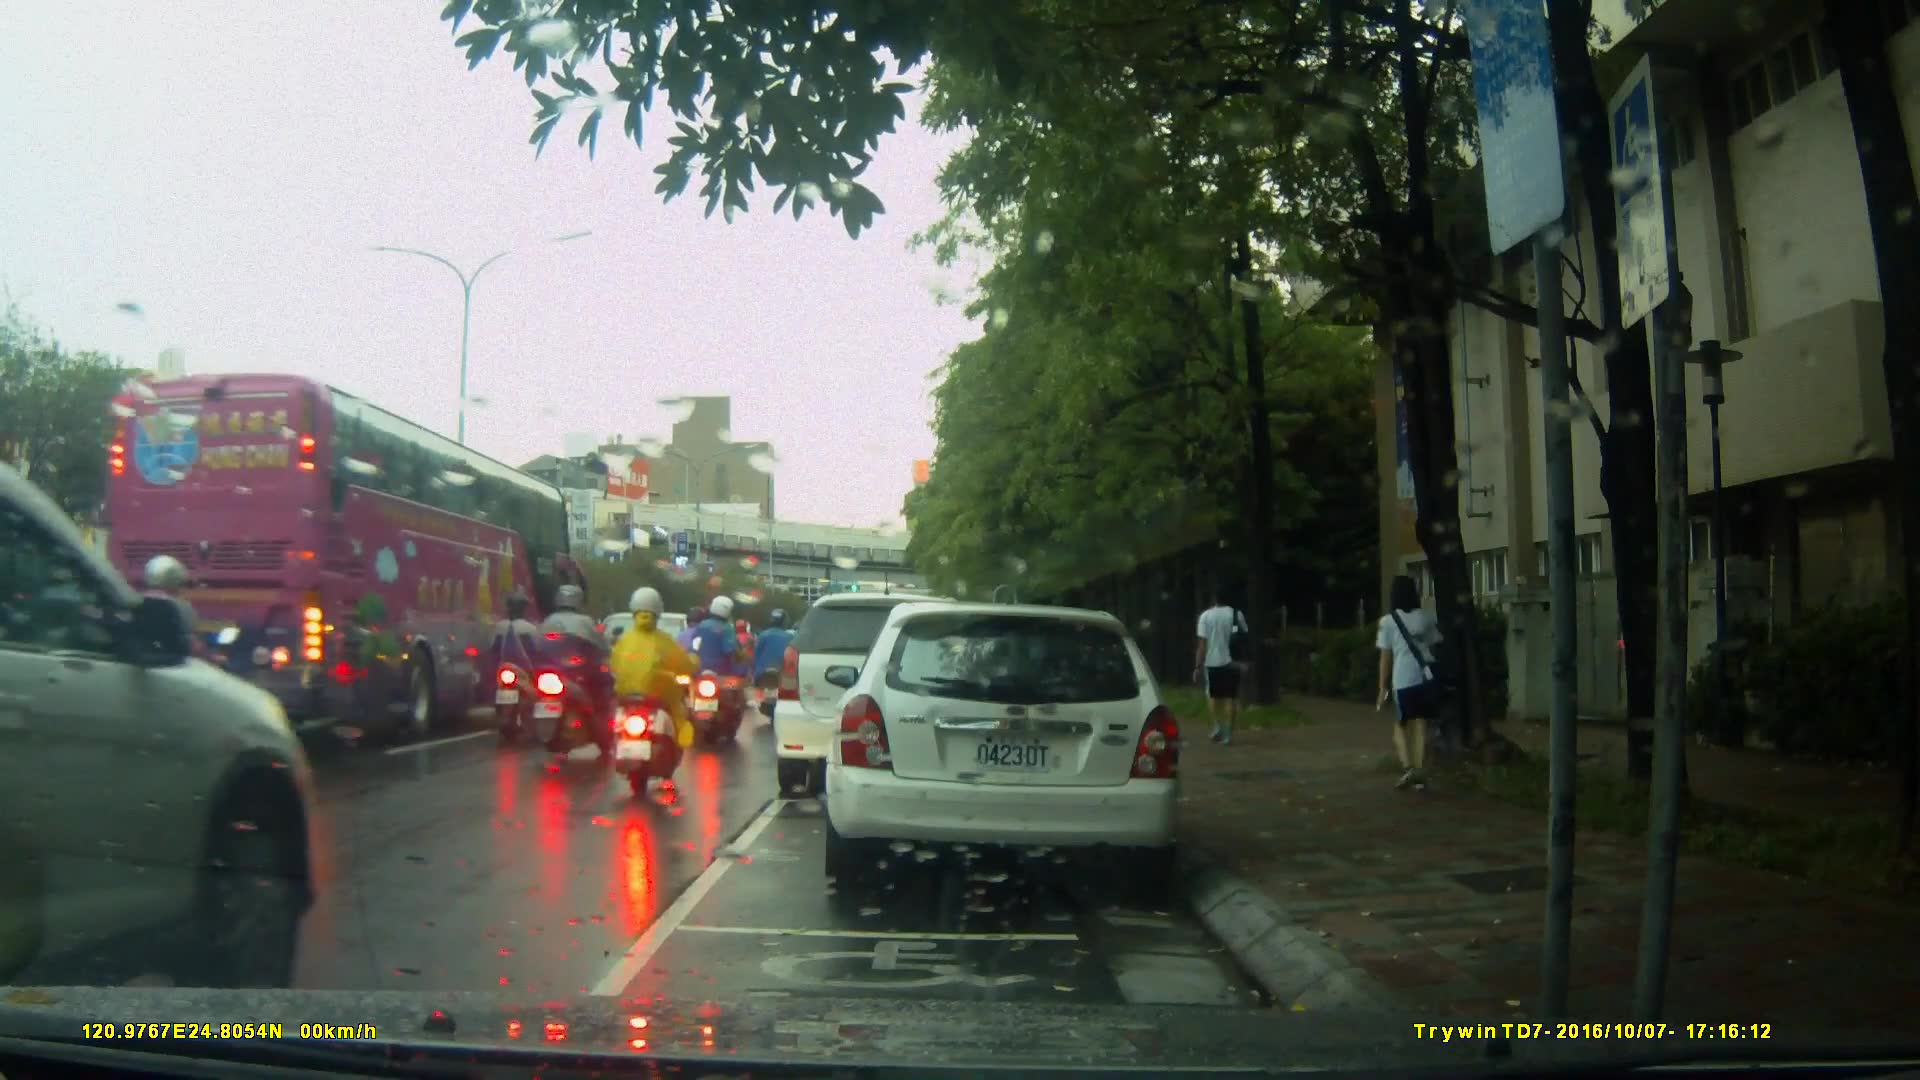pedestrian: (1362, 575, 1447, 802), (1180, 581, 1243, 750)
rider: (96, 552, 241, 826), (617, 590, 701, 802), (536, 581, 616, 765), (686, 593, 748, 759), (491, 592, 552, 745), (751, 607, 813, 733), (677, 598, 723, 718), (722, 617, 761, 695)
vehicle: (90, 368, 575, 739), (1, 452, 326, 987), (835, 594, 1194, 898), (776, 590, 1026, 784), (582, 610, 726, 731)
